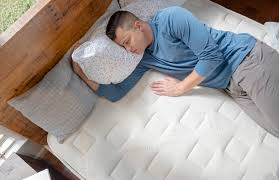bed-matress: (42, 1, 277, 180)
